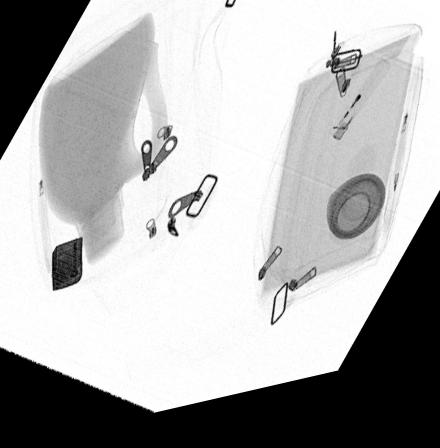Lighter: (327, 75, 391, 157), (50, 240, 82, 294)
